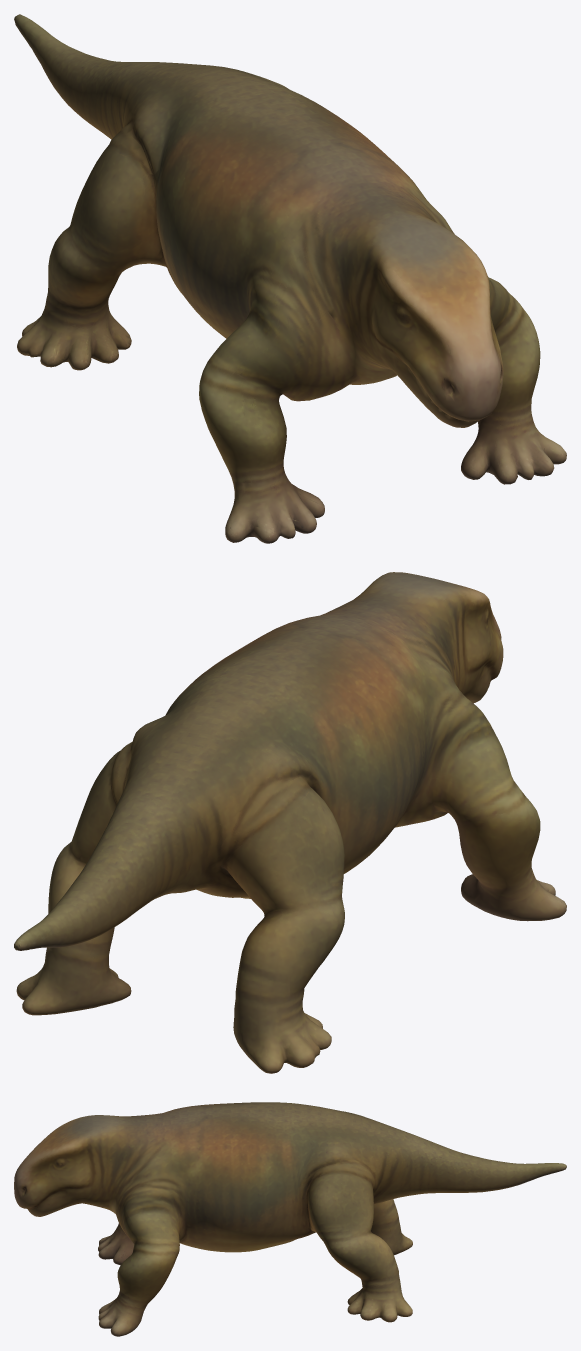
3 renders of one model, top to bottom at view 1: azimuth 30°, elevation 25°; view 2: azimuth 150°, elevation 25°; view 3: azimuth 270°, elevation 25°, orthographic. The views are drawn at different scales.
Visible parts, largest first — view 1: world; view 2: world; view 3: world.
Boxes of the visible parts, bbox=[...] form: world: bbox=[14, 14, 566, 543]; world: bbox=[14, 572, 566, 1073]; world: bbox=[14, 1102, 566, 1336].
Bounding box in the file's own units: 1.13 × 0.9805 × 2.7.
Materials: 1 (1 with a texture image).
